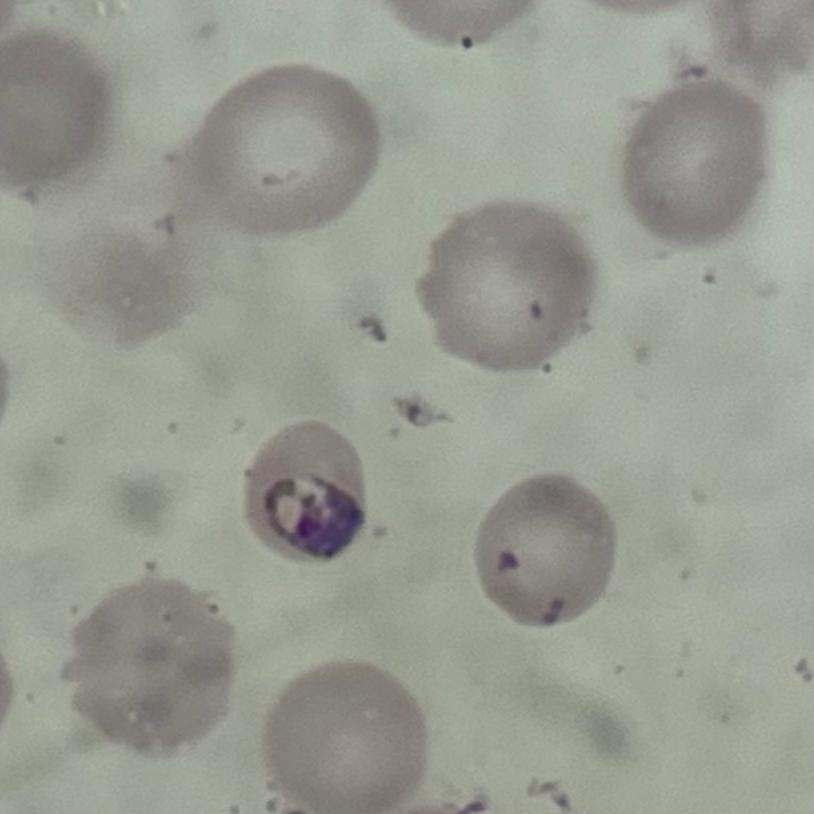Infected: (244, 423, 363, 563)
Uninfected: (182, 65, 371, 231), (420, 202, 596, 374), (72, 575, 236, 752), (265, 655, 429, 814), (622, 84, 771, 243), (472, 470, 611, 626), (0, 32, 115, 187)
